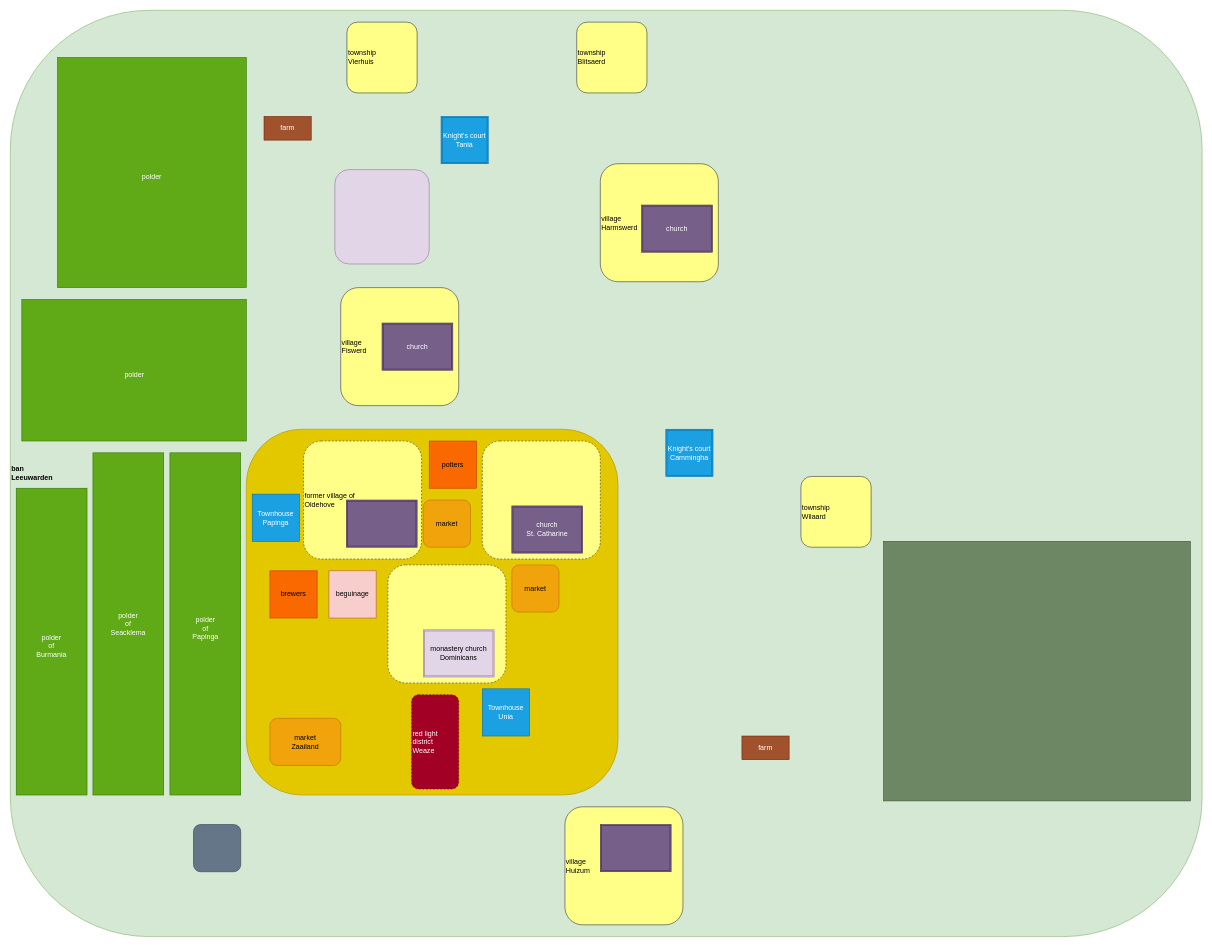
Some shapes in this 1212 by 947 pixel diagram are drawn without their labels. Here are the shapes that lost their labels. From the top down, the box of each, then its label:
(334, 169, 429, 264): monastic grange Bilgaard
(482, 440, 600, 559): former village of Hoek
(346, 499, 417, 547): church St. Vitus
(246, 429, 618, 795): town Leeuwarden
(387, 564, 506, 683): former village of Nijehove
(883, 541, 1190, 801): communal grounds Hemrik
(193, 824, 241, 872): gallows Galgefenne
(600, 824, 671, 872): church John the Baptist
